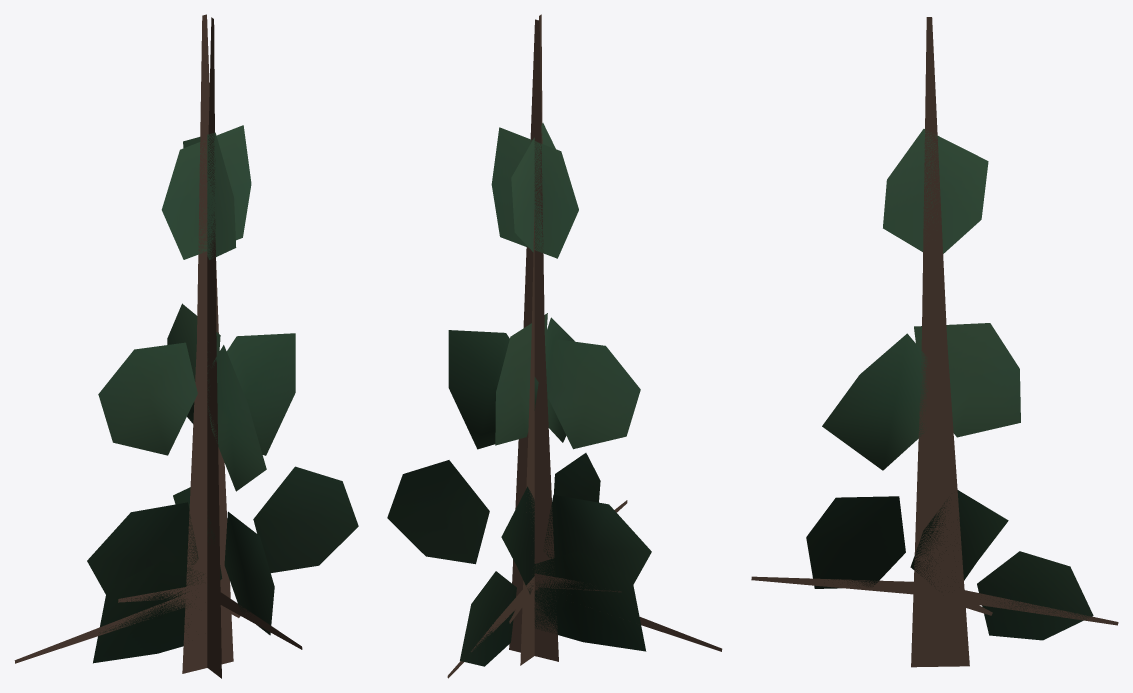
File: spruce-b.card.glb
The picture shows the model from 3 angles, left to right: view 1: azimuth 30°, elevation 25°; view 2: azimuth 150°, elevation 25°; view 3: azimuth 270°, elevation 25°; orthographic projection. The views are drawn at different scales.
Size of the model in its own units: 4.19 by 7.6 by 3.89.
